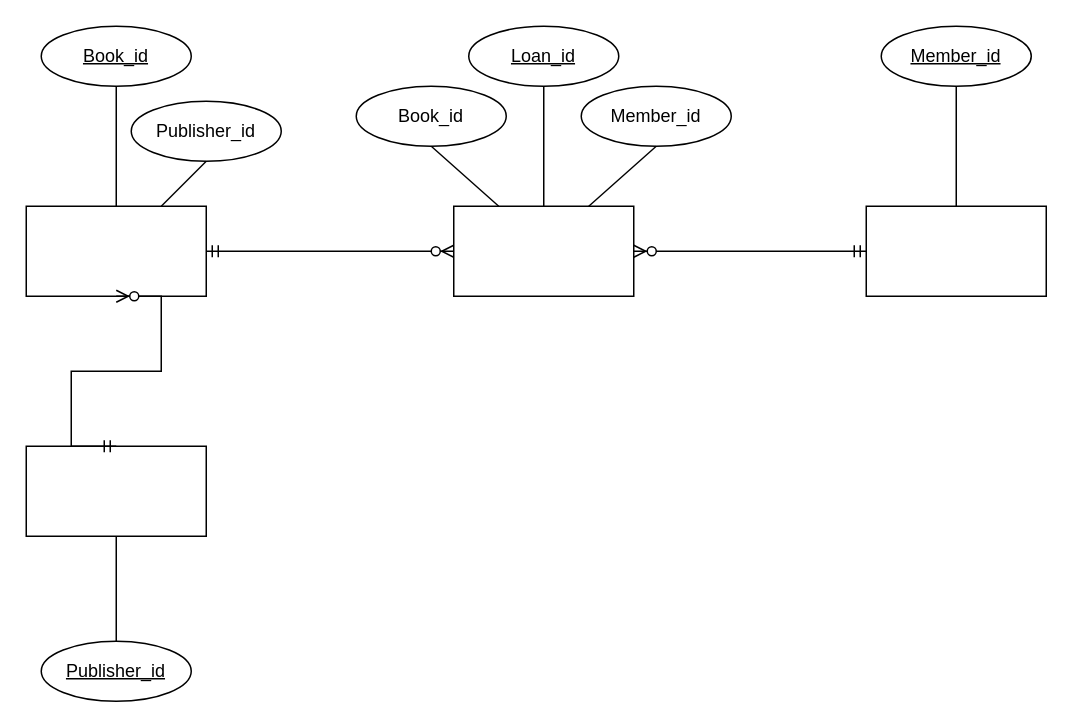
Image size: 1073x728. Some labels were removed from this diagram. Here are the shapes that lost their labels. From the top down, the centre of each, then its label:
At (x=115, y=250): "Books".
At (x=543, y=250): "Loans".
At (x=955, y=250): "Members".
At (x=115, y=490): "Publishers".
